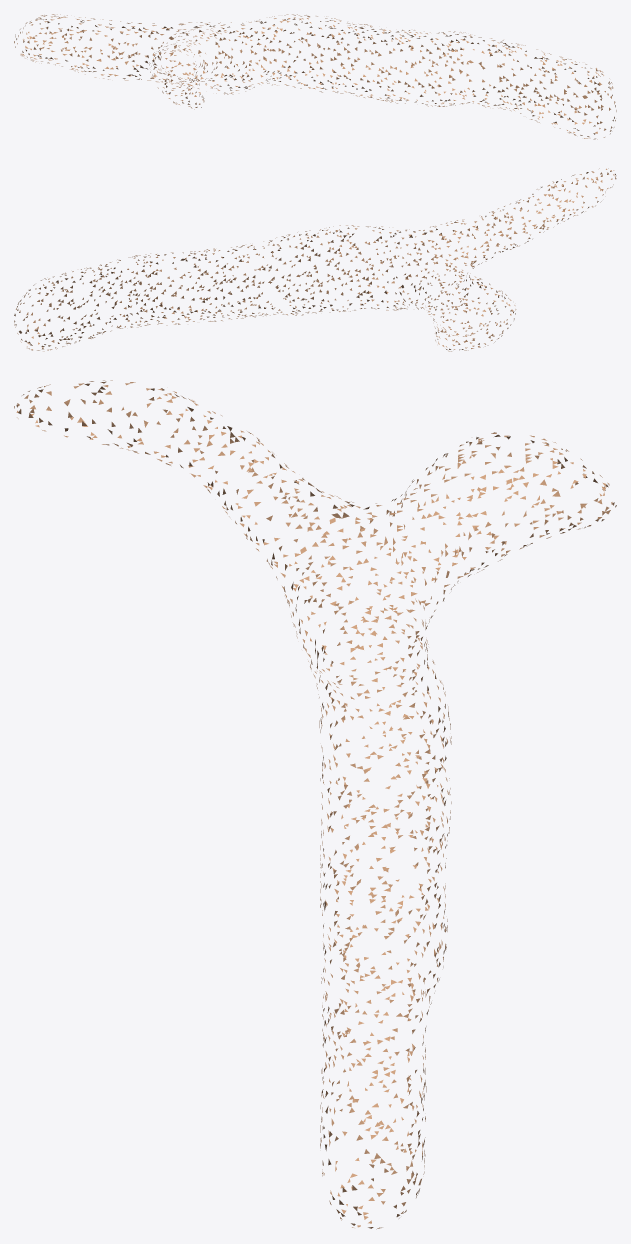
The model's file is morph_005.glb.
3 views of the same model, one above another, from view 1: azimuth 30°, elevation 25°; view 2: azimuth 150°, elevation 25°; view 3: azimuth 270°, elevation 25° (orthographic). The views are drawn at different scales.
Bounding box in the file's own units: 122 × 52.29 × 66.68.
